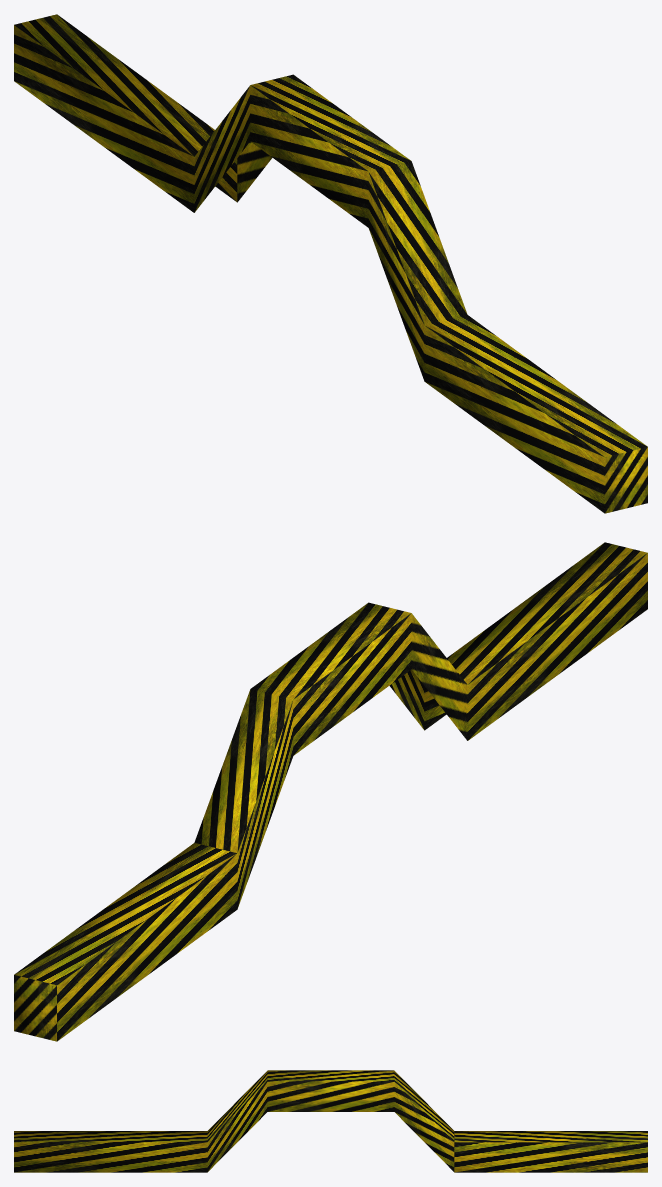
The model's file is door2_stripes.fbx.
3 renders of one model, top to bottom at view 1: azimuth 30°, elevation 25°; view 2: azimuth 150°, elevation 25°; view 3: azimuth 270°, elevation 25°, orthographic. The views are drawn at different scales.
Parts seen in each view (by area): view 1: Cube_329; view 2: Cube_329; view 3: Cube_329.
Part boxes in pixels (x1,y1,x2,y2): Cube_329: (14, 14, 647, 513); Cube_329: (14, 542, 647, 1041); Cube_329: (14, 1070, 647, 1172).
Bounding box in the file's own units: 0.4 × 1.5 × 9.5.
1 material, 1 textured.
